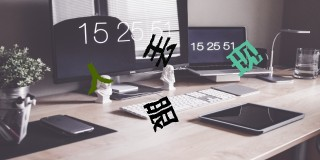丢: (143, 33, 176, 69)
人: (84, 62, 114, 93)
现: (225, 40, 265, 75)
眼: (142, 95, 179, 132)
